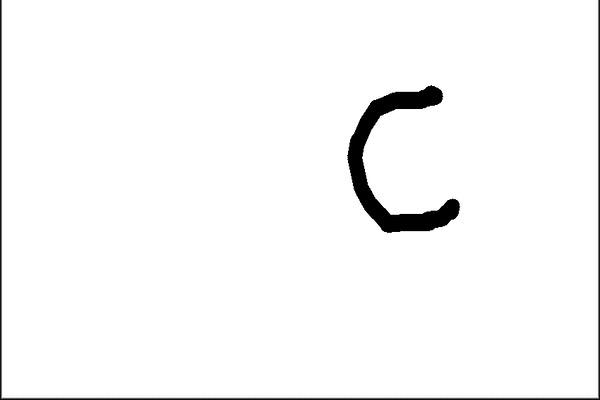C: (342, 82, 462, 234)
